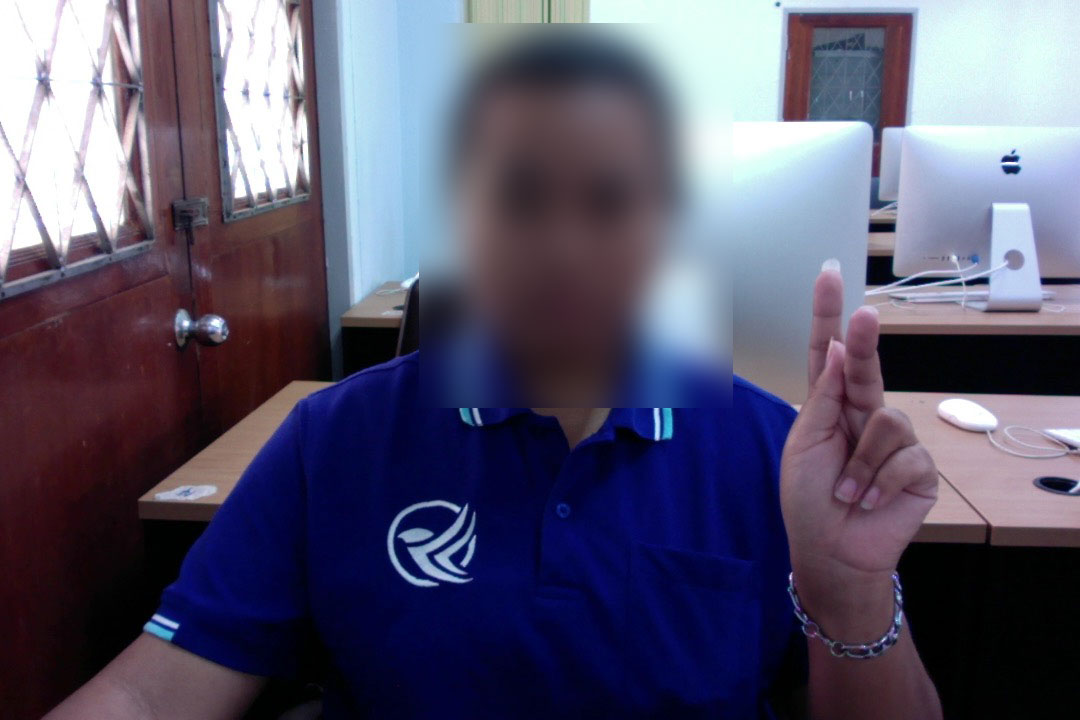ko: (768, 240, 947, 608)
